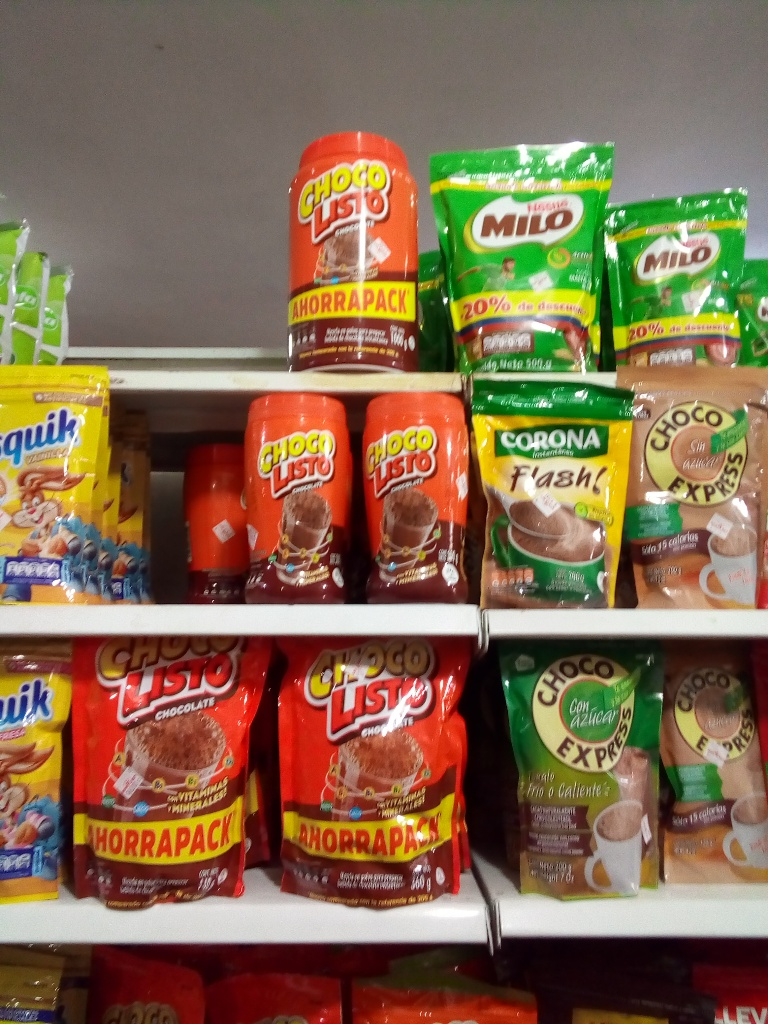COL0170103DYP36000: (67, 640, 272, 909)
COL0170103TRR00100: (292, 134, 425, 371)
COL0170103TRR30000: (241, 393, 354, 600)
COL0170203DYP25000: (609, 186, 760, 367)
COL0170203DYP50000: (426, 146, 605, 374)
COL0170303DYP20000: (1, 361, 120, 595)
